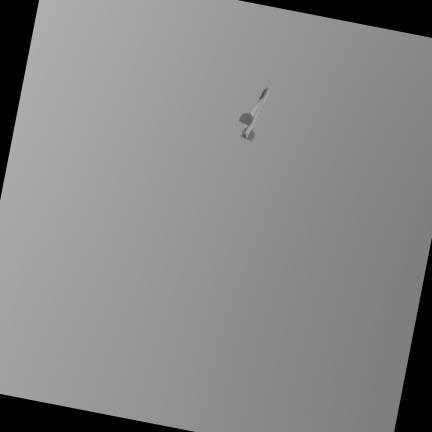Shahed: (239, 87, 268, 140)
